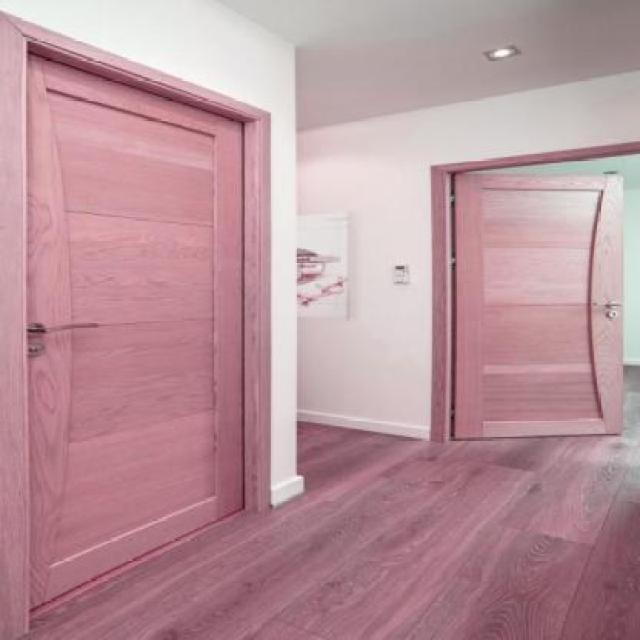door_handle: (29, 318, 106, 342), (578, 296, 623, 313)
